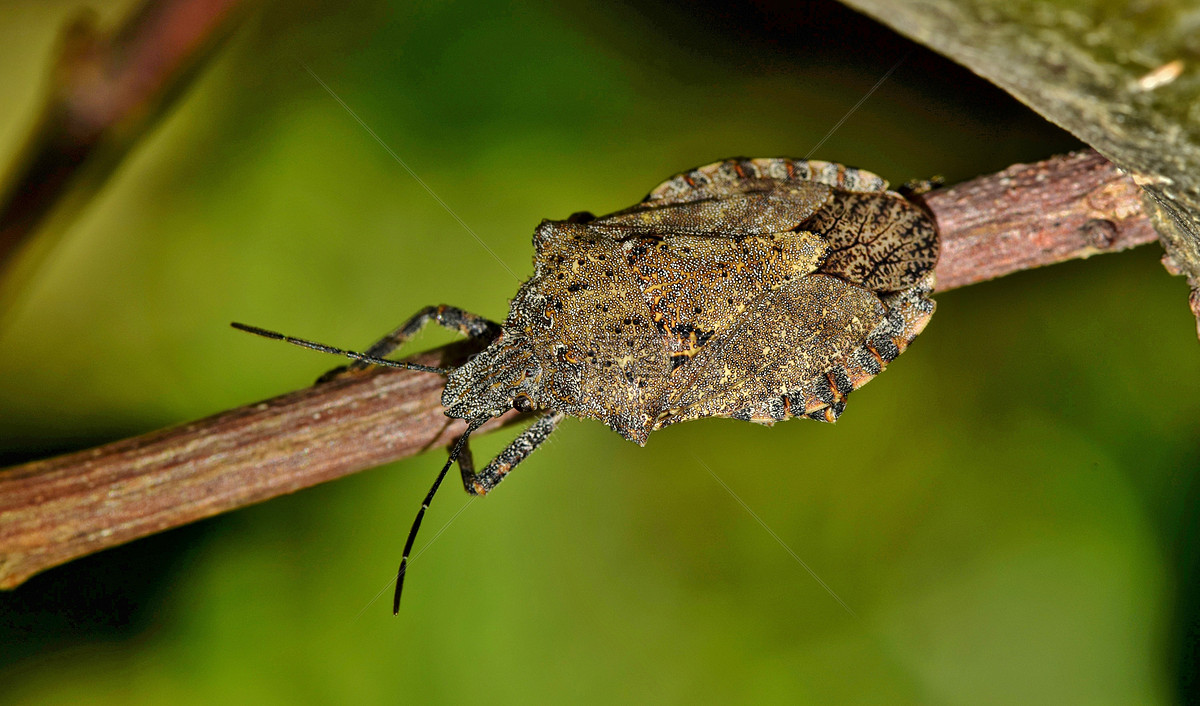chunchong: (392, 153, 952, 461)
